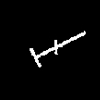double_crochet: (30, 31, 84, 66)
